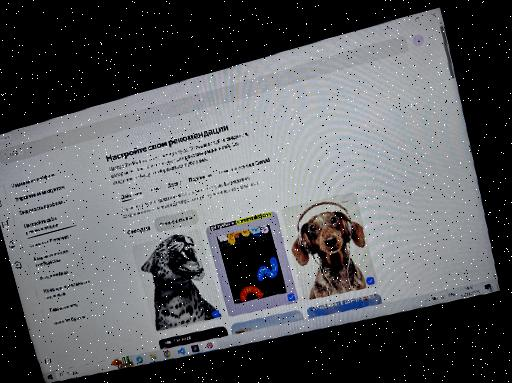pinterest: (0, 25, 502, 383)
